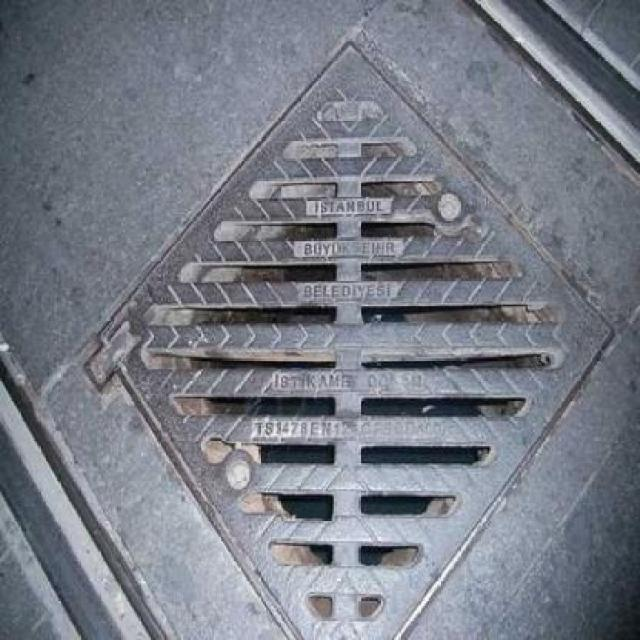Manhole: (84, 34, 630, 638)
